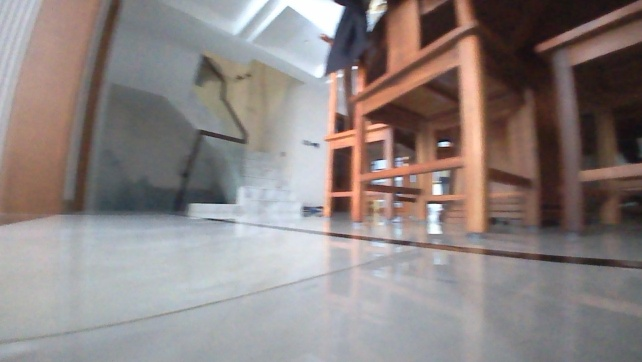dining_table1: (312, 0, 641, 237)
